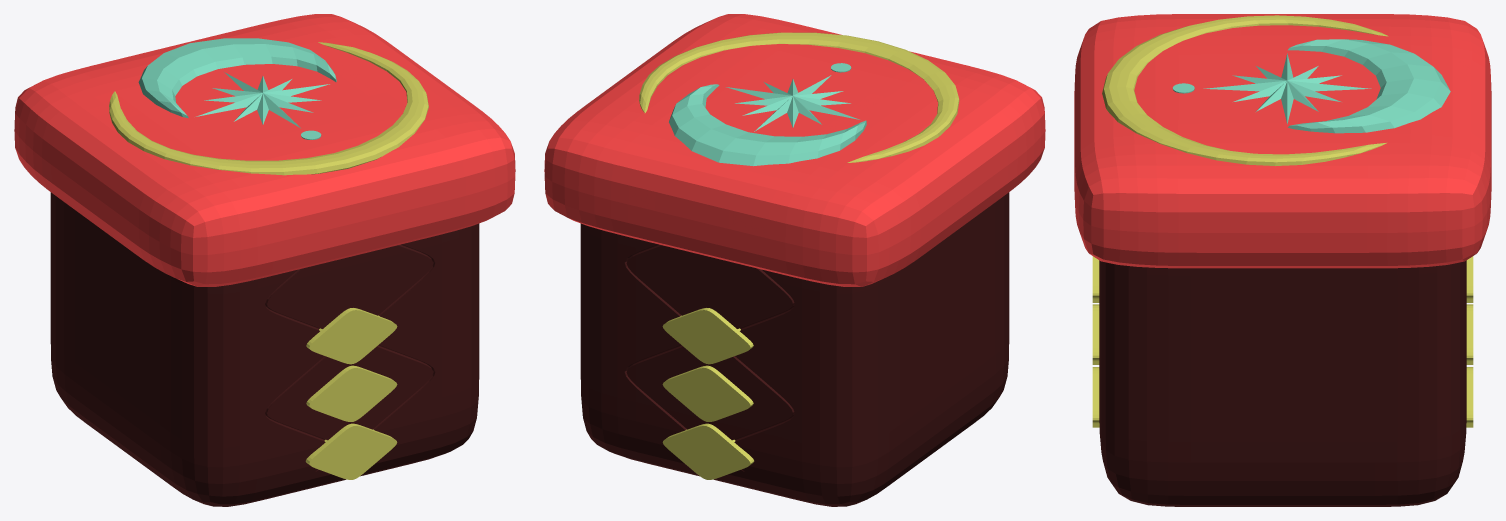
File: RunAndGun_edit.fbx
3 renders of one model, left to right at view 1: azimuth 30°, elevation 25°; view 2: azimuth 150°, elevation 25°; view 3: azimuth 270°, elevation 25°, orthographic. The views are drawn at different scales.
Parts seen in each view (by area): view 1: block5_grass; view 2: block5_grass; view 3: block5_grass.
Part boxes in pixels (x1,y1,x2,y2): block5_grass: (14,14,515,506); block5_grass: (544,14,1045,506); block5_grass: (1074,14,1491,506).
Bounding box in the file's own units: 237 × 221 × 227.
